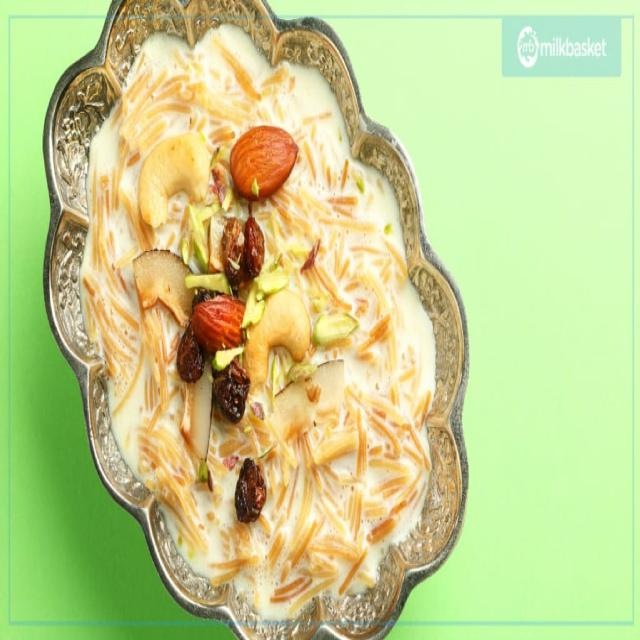shavige payasa: (73, 12, 445, 639)
